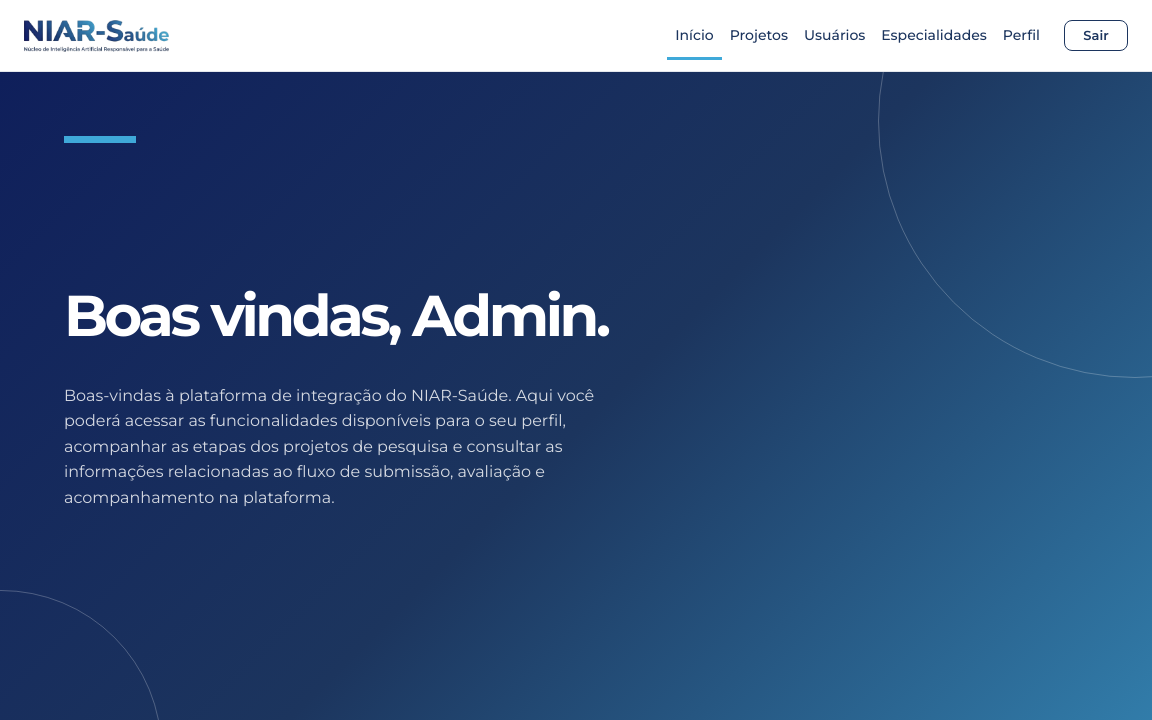
Test: Admin App › permite que o administrador acesse Especialidades pelo menu
Click the tab "Especialidades" at (934, 36), box x1=873 y1=12 x2=995 y2=60
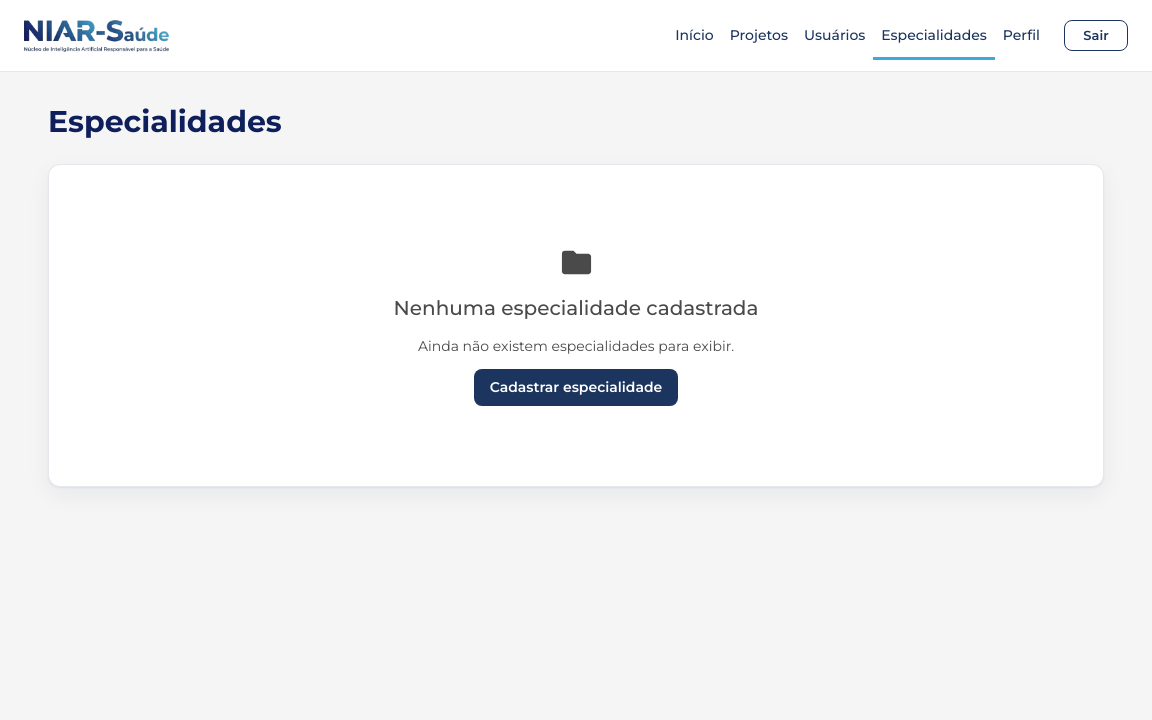
Now the heading "Especialidades" is shown, box x1=48 y1=104 x2=282 y2=140
